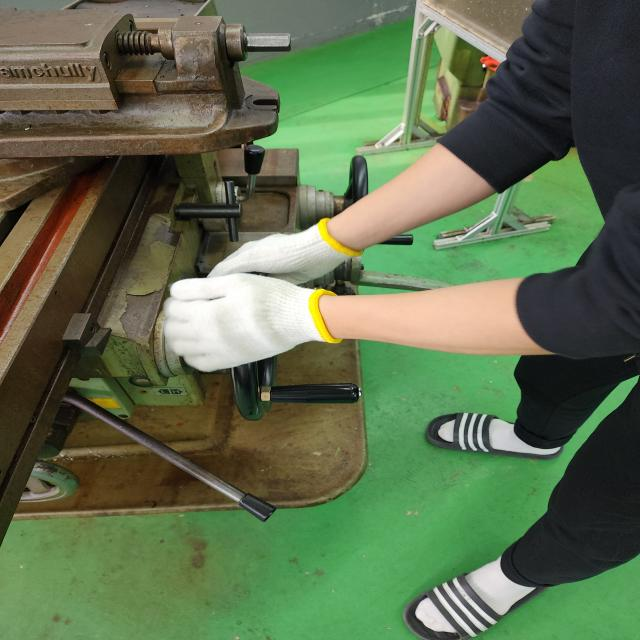Boots: (167, 273, 339, 372), (204, 218, 366, 268)
